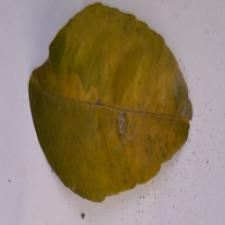Canker: (79, 76, 174, 164)
